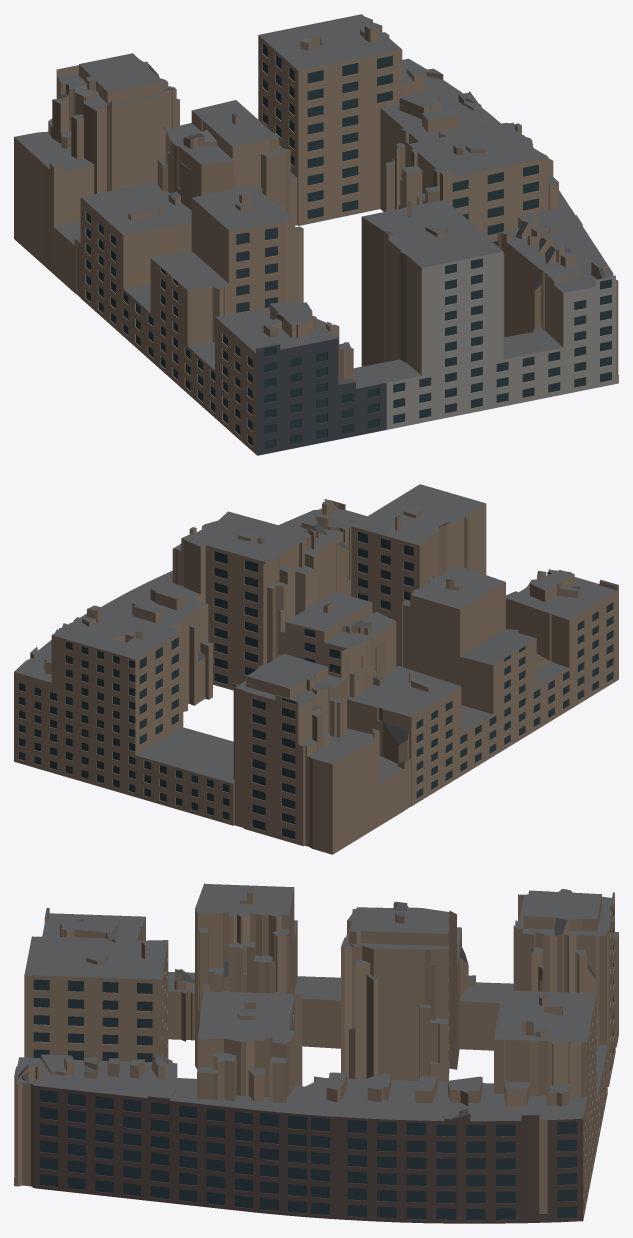
The model's file is recipe-large-westerdok-186086.glb.
The picture shows the model from 3 angles, top to bottom: view 1: azimuth 30°, elevation 25°; view 2: azimuth 150°, elevation 25°; view 3: azimuth 270°, elevation 25°; orthographic projection. The views are drawn at different scales.
Parts seen in each view (by area): view 1: westerdok-186086; view 2: westerdok-186086; view 3: westerdok-186086.
Part boxes in pixels (x1,y1,x2,y2): westerdok-186086: (14,14,618,455); westerdok-186086: (14,484,618,854); westerdok-186086: (14,883,618,1223).
Bounding box in the file's own units: 97.76 × 38.96 × 120.
